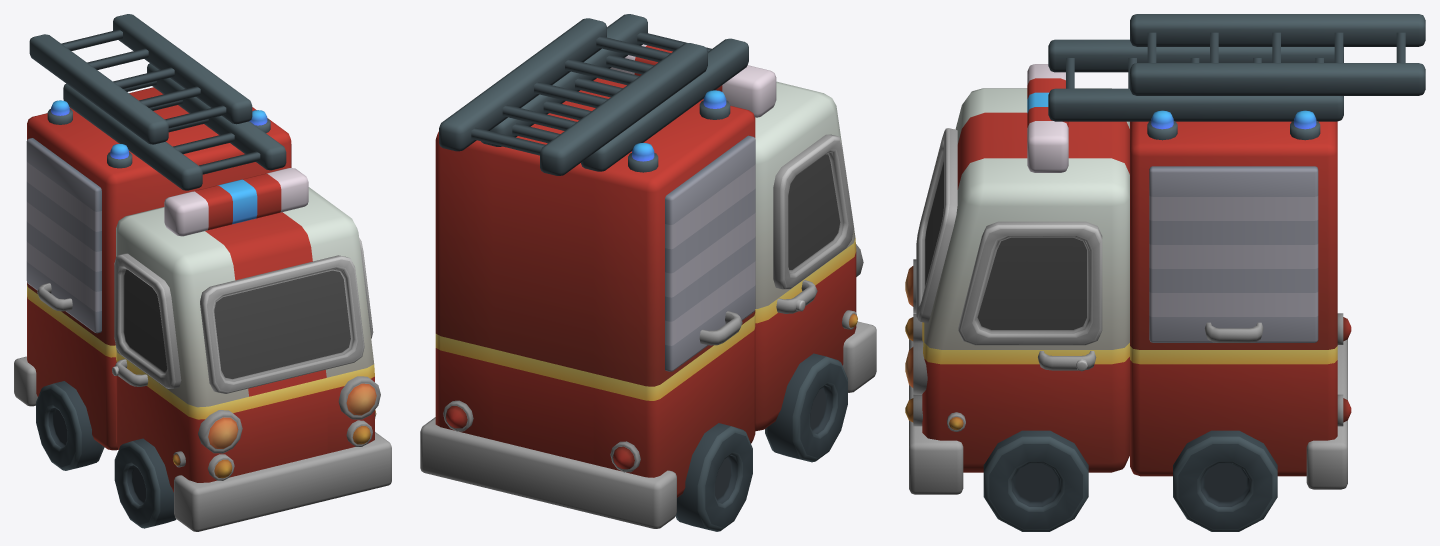
File: mct_car_10.fbx
3 renders of one model, left to right at view 1: azimuth 30°, elevation 25°; view 2: azimuth 150°, elevation 25°; view 3: azimuth 270°, elevation 25°, orthographic. The views are drawn at different scales.
Visible parts, largest first — view 1: mct_car_10, mct_car_10_w; view 2: mct_car_10, mct_car_10_w; view 3: mct_car_10, mct_car_10_w.
Boxes of the visible parts, bbox=[...] form: mct_car_10: bbox=[14, 14, 391, 531]; mct_car_10_w: bbox=[36, 381, 176, 528]; mct_car_10: bbox=[420, 14, 876, 528]; mct_car_10_w: bbox=[675, 353, 847, 531]; mct_car_10: bbox=[905, 14, 1425, 494]; mct_car_10_w: bbox=[983, 430, 1277, 531].
Size of the model in its own units: 136 by 204 by 224.
